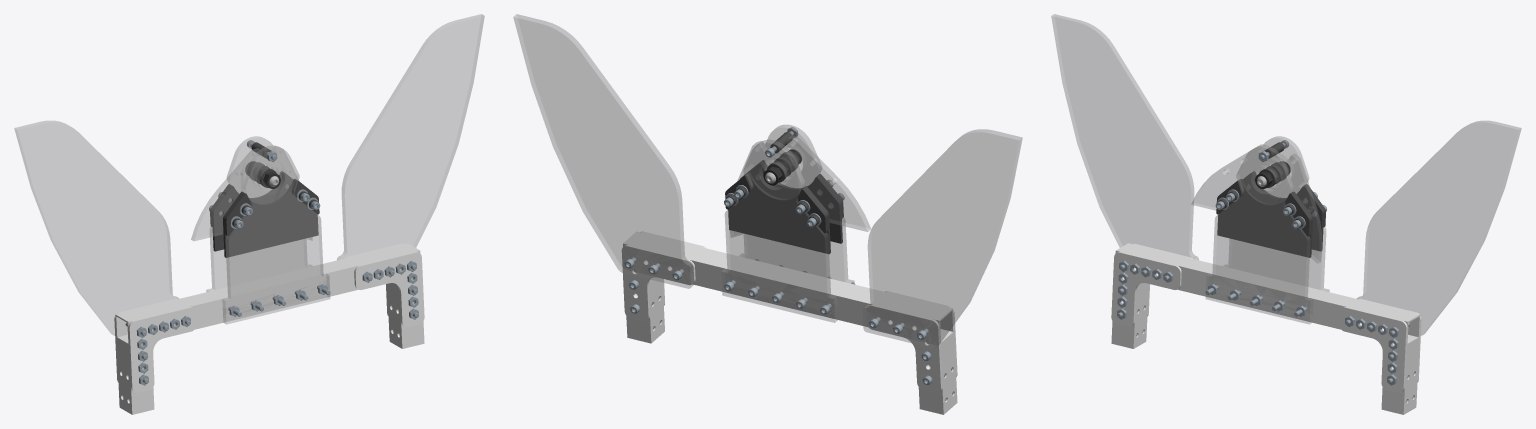
3 views of the same model, side by side, from view 1: azimuth 30°, elevation 25°; view 2: azimuth 150°, elevation 25°; view 3: azimuth 330°, elevation 25° (orthographic). The views are drawn at different scales.
Visible parts, largest first — view 1: fummel (×2), plate (×2), Tube 1"x1"x13.2", plateStraightener (×2), gusset (×2), hook (×2), Tube 1"x1"x4.5" (×2); view 2: fummel (×2), plate (×2), Tube 1"x1"x13.2", plateStraightener (×2), gusset (×2), hook (×2), Tube 1"x1"x4.5" (×2), Shaft; view 3: fummel (×2), plate (×2), Tube 1"x1"x13.2", plateStraightener (×2), gusset (×2), hook (×2), Tube 1"x1"x4.5" (×2).
Boxes of the visible parts, bbox=[...] form: fummel (×2): bbox=[14, 14, 484, 335]; plate (×2): bbox=[206, 136, 329, 324]; Tube 1"x1"x13.2": bbox=[115, 243, 420, 345]; plateStraightener (×2): bbox=[210, 171, 319, 257]; gusset (×2): bbox=[128, 251, 424, 392]; hook (×2): bbox=[191, 146, 312, 240]; Tube 1"x1"x4.5" (×2): bbox=[116, 277, 424, 414]; fummel (×2): bbox=[513, 14, 1022, 347]; plate (×2): bbox=[721, 125, 854, 322]; Tube 1"x1"x13.2": bbox=[623, 231, 953, 344]; plateStraightener (×2): bbox=[725, 160, 843, 254]; gusset (×2): bbox=[621, 245, 942, 392]; hook (×2): bbox=[730, 135, 870, 237]; Tube 1"x1"x4.5" (×2): bbox=[626, 270, 957, 414]; Shaft: bbox=[763, 149, 801, 185]; fummel (×2): bbox=[1051, 14, 1521, 335]; plate (×2): bbox=[1206, 136, 1329, 324]; Tube 1"x1"x13.2": bbox=[1115, 243, 1420, 345]; plateStraightener (×2): bbox=[1216, 171, 1325, 257]; gusset (×2): bbox=[1111, 251, 1407, 392]; hook (×2): bbox=[1191, 144, 1322, 263]; Tube 1"x1"x4.5" (×2): bbox=[1111, 277, 1419, 414].
Size of the model in its own units: 0.5364 by 0.3162 by 0.0726.
